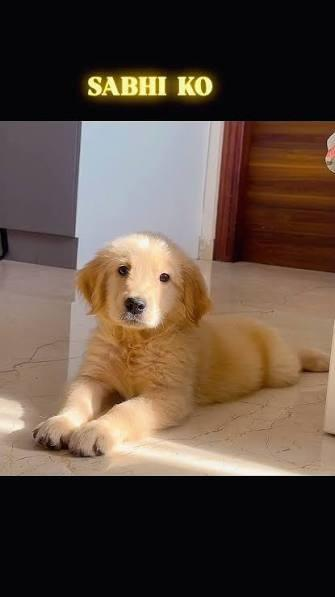puppy-dog: (33, 231, 332, 458)
